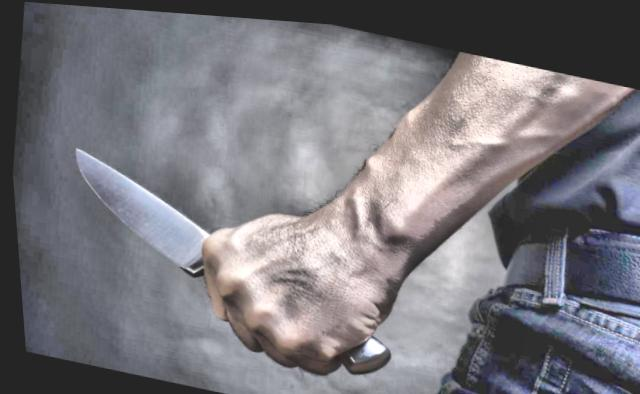knife: (40, 132, 306, 350)
